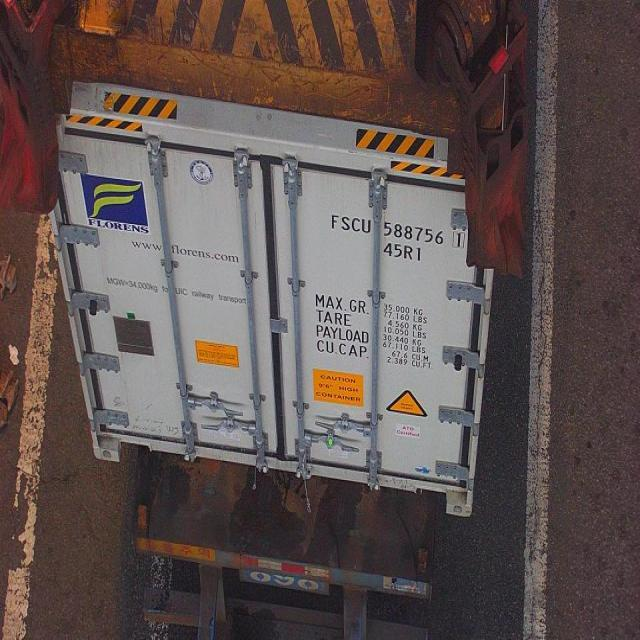ISO: (384, 241, 424, 261)
container_number: (330, 212, 464, 248)
